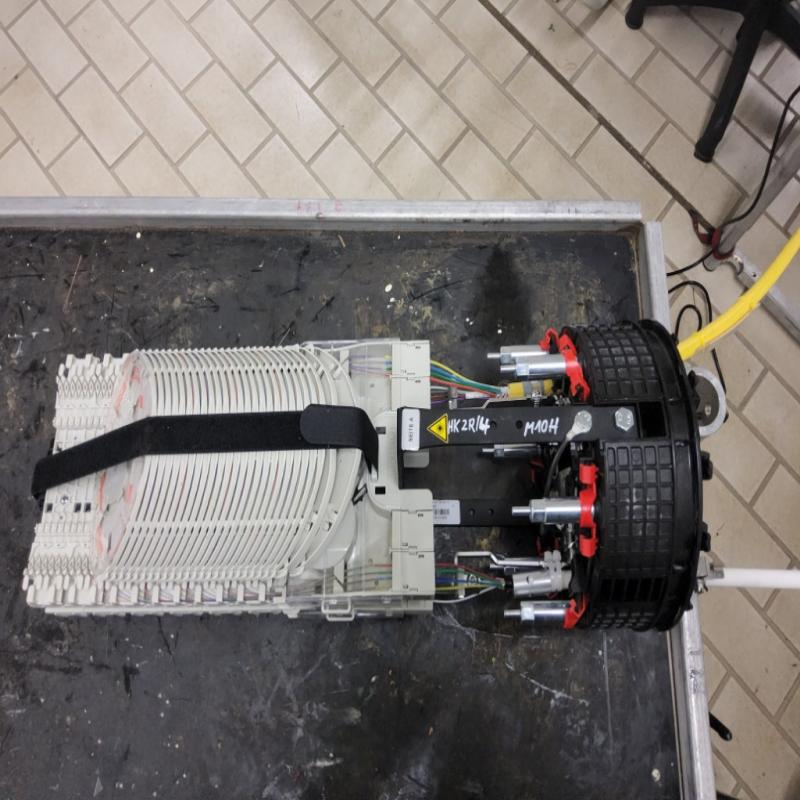NT-Muffen: (25, 332, 717, 641)
